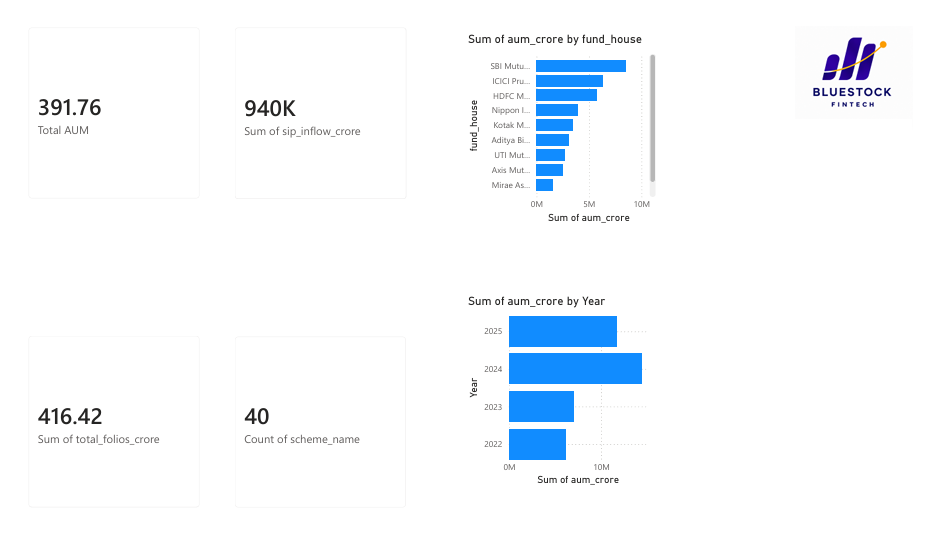

What the dashboard file says about the page in this screenshot:
{"tool":"powerbi","page":{"name":"Page 1","canvas":[1280,720],"ordinal":0},"visuals":[{"type":"cardVisual","fields":{"Data":["Sum(06_industry_folio_count.total_folios_crore)"]},"box":[0,441.1,278.4,278.4],"z":0},{"type":"cardVisual","fields":{"Data":["Sum(03_aum_by_fund_house.aum_lakh_crore)"]},"box":[0,0,278.2,278.2],"z":1000},{"type":"cardVisual","fields":{"Data":["Sum(04_monthly_sip_inflows.sip_inflow_crore)"]},"box":[295,0,278.8,278.8],"z":2000},{"type":"cardVisual","fields":{"Data":["Count(01_fund_master.scheme_name)"]},"box":[294.7,441.6,278.2,278.2],"z":3000},{"type":"clusteredBarChart","fields":{"Category":["03_aum_by_fund_house.fund_house"],"Y":["Sum(03_aum_by_fund_house.aum_crore)"]},"box":[640,23.3,277.8,277.8],"z":4000},{"type":"clusteredBarChart","fields":{"Category":["03_aum_by_fund_house.date.Variation.Date Hierarchy.Year","03_aum_by_fund_house.date.Variation.Date Hierarchy.Quarter","03_aum_by_fund_house.date.Variation.Date Hierarchy.Month","03_aum_by_fund_house.date.Variation.Date Hierarchy.Day"],"Y":["Sum(03_aum_by_fund_house.aum_crore)"]},"box":[640,397.8,277.8,277.8],"z":5000},{"type":"image","box":[1113.3,0,166.7,164.4],"z":5001}]}

Visuals, with their boxes in screenshot pixels (x1, y1, x2, y2), scaled from the page's 1280x720 canvas onto the 926x535 screenshot:
cardVisual - Sum(06_industry_folio_count.total_folios_crore): left=0, top=328, right=201, bottom=534
cardVisual - Sum(03_aum_by_fund_house.aum_lakh_crore): left=0, top=0, right=201, bottom=207
cardVisual - Sum(04_monthly_sip_inflows.sip_inflow_crore): left=213, top=0, right=415, bottom=207
cardVisual - Count(01_fund_master.scheme_name): left=213, top=328, right=414, bottom=534
clusteredBarChart - 03_aum_by_fund_house.fund_house x Sum(03_aum_by_fund_house.aum_crore): left=463, top=17, right=664, bottom=224
clusteredBarChart - 03_aum_by_fund_house.date.Variation.Date Hierarchy.Year x 03_aum_by_fund_house.date.Variation.Date Hierarchy.Quarter: left=463, top=296, right=664, bottom=502
image: left=805, top=0, right=925, bottom=122
